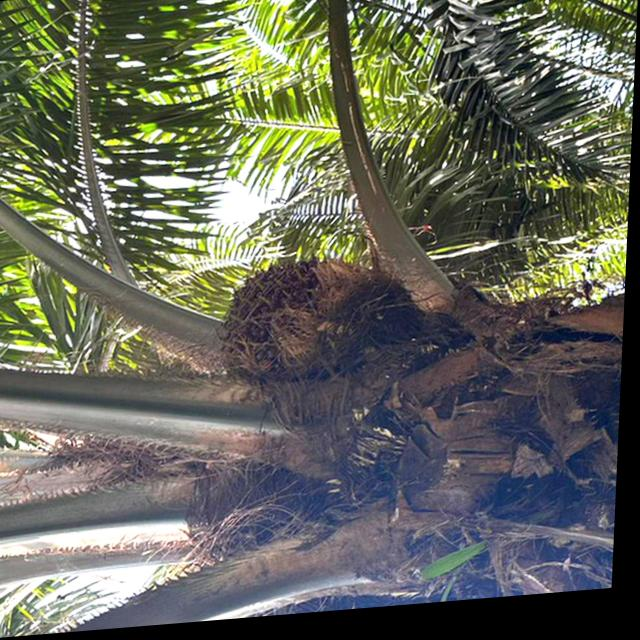almost: (220, 254, 394, 397)
